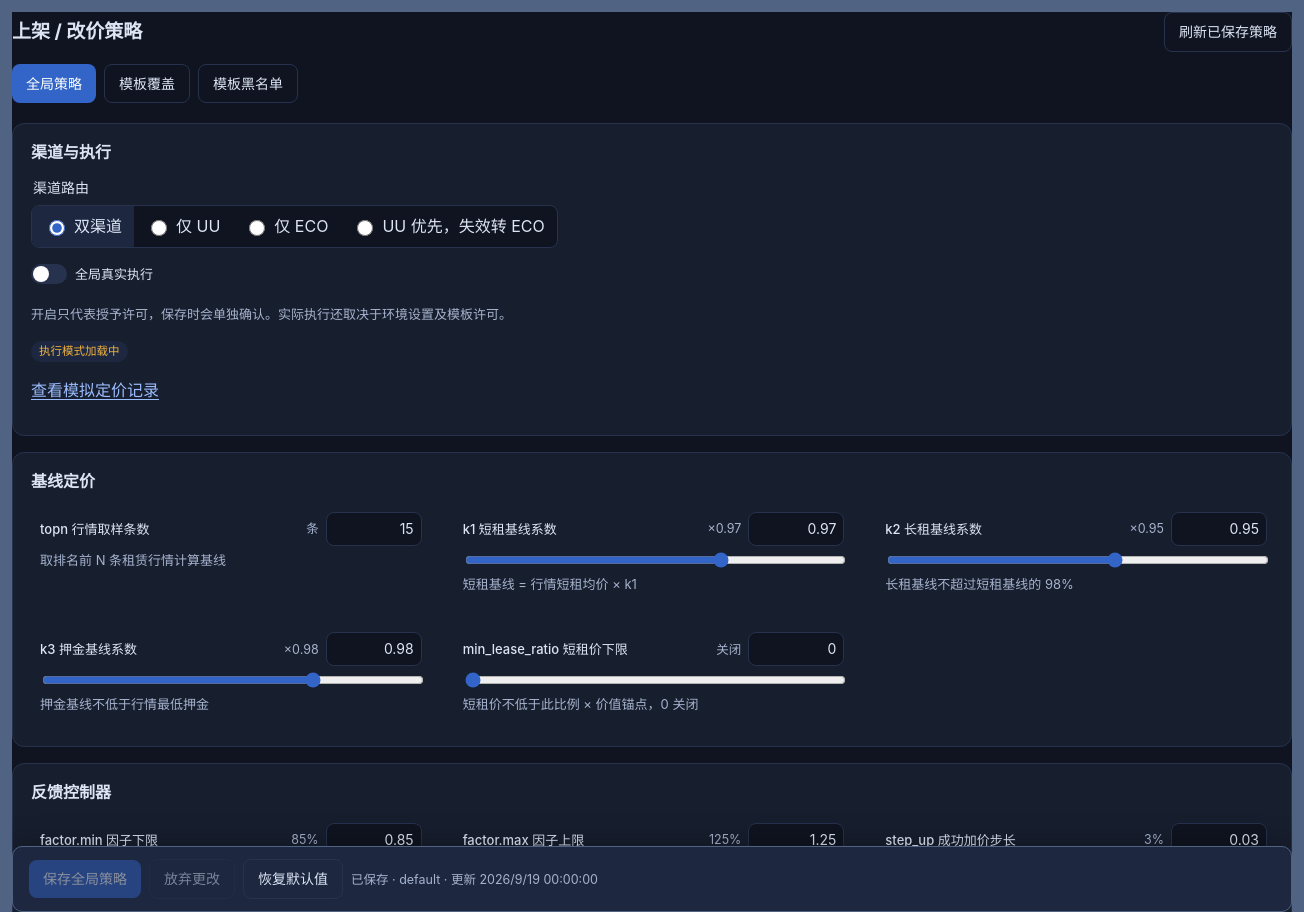
Test: global strategy drafts › saves nested values and reads back the saved form
The image size is (1304, 912).
expect the number field named "k1 短租基线系数数值" is shown: met, box [748,512,844,546]
Click the radio button labelled "仅 UU" at point(159, 228), box [151,220,167,236]
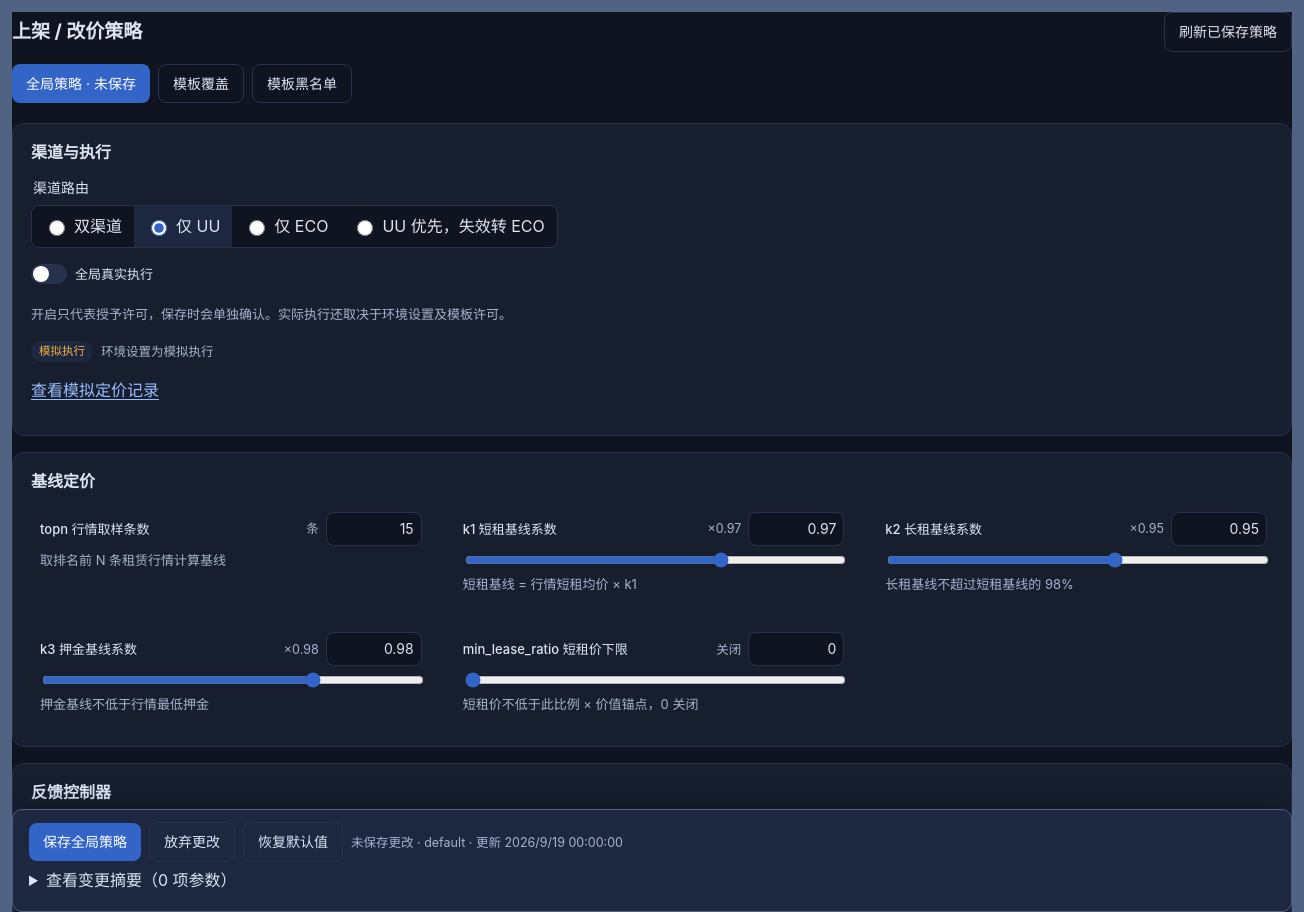
Set the slider named "k1 短租基线系数" to "1.02" at point(795, 560), box [465,552,846,568]
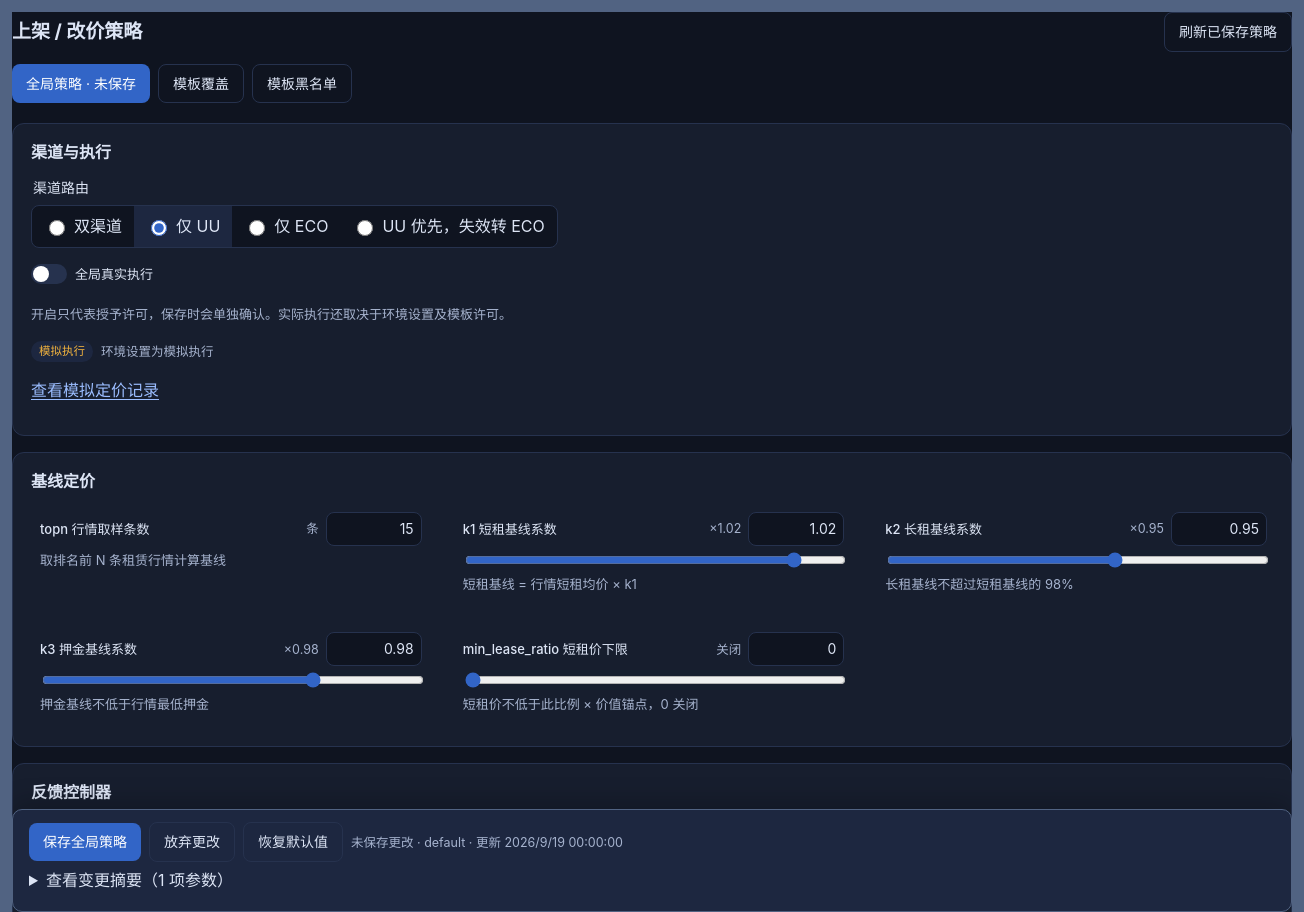
Click the button "保存全局策略" at point(85, 842), box [29,824,141,861]
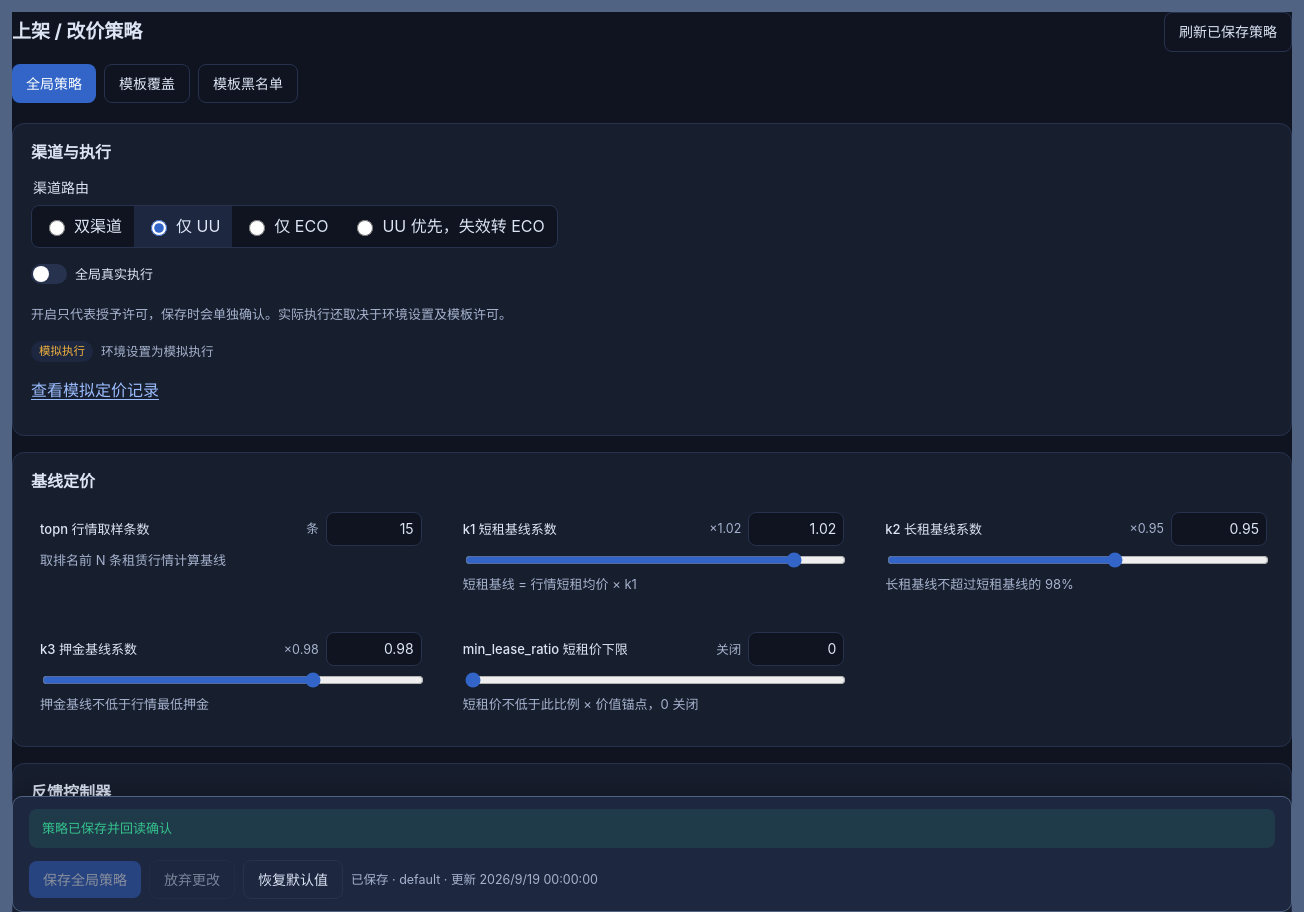
expect the text "策略已保存并回读确认" is shown: met, box [29,809,1275,847]
expect the button "保存全局策略" is disabled: met, box [29,860,141,898]
